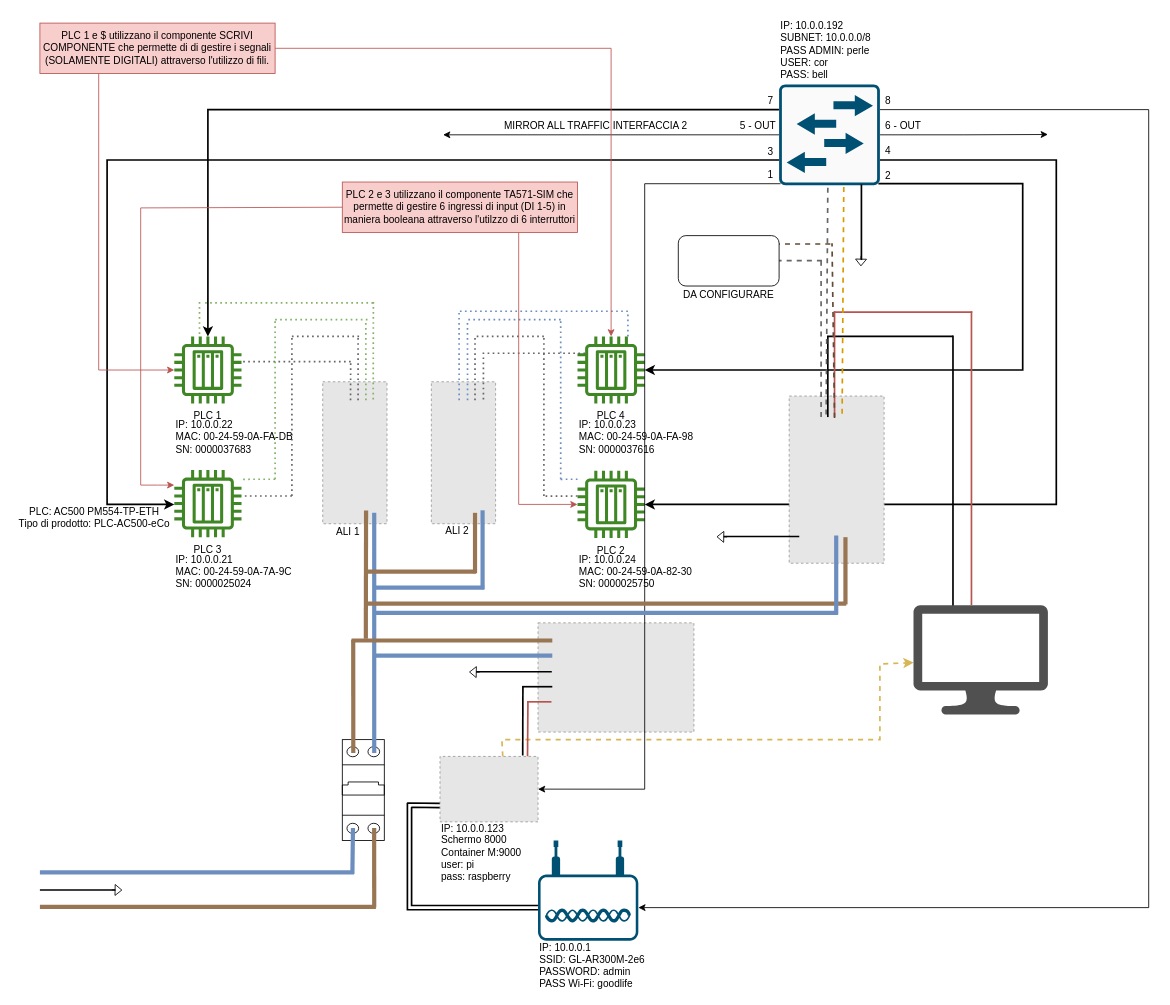
The diagram is 1170 pixels wide and 1005 high, and some of its shapes have lost their labels. Grey dashed boxes stand in for pictures. Here are the shapes that lost their labels. From the top down, the centre of each, then its label:
At point (728, 260): "RTU".
At point (980, 659): "MONITOR ESTERNO".
